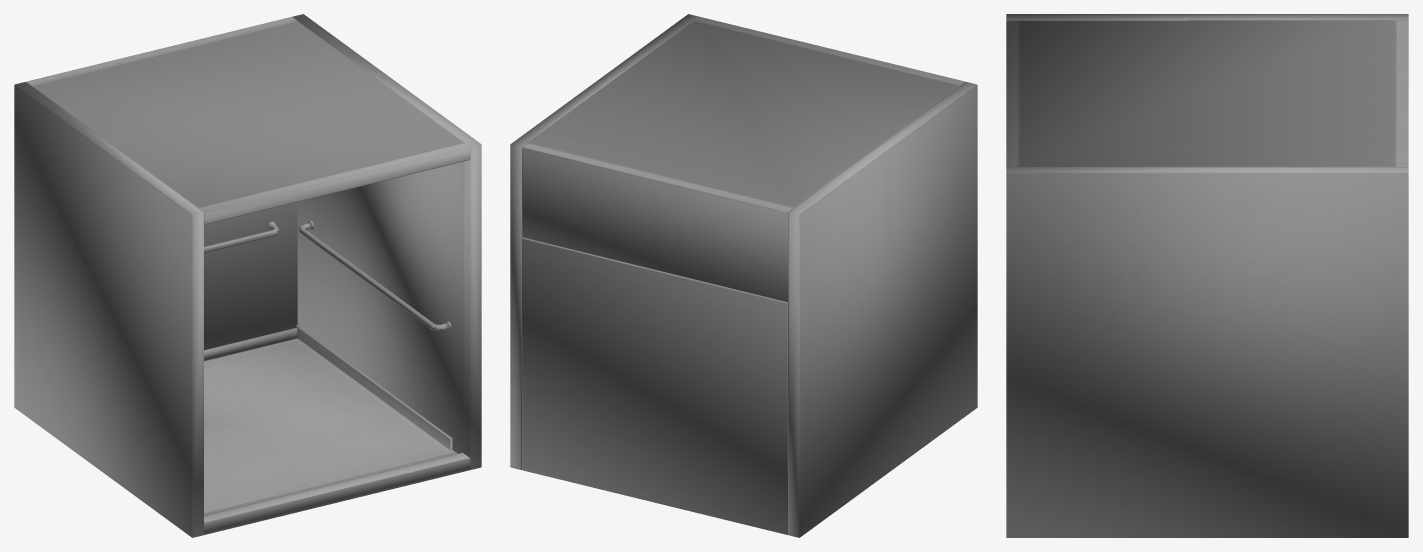
The model's file is original_glb.glb.
The picture shows the model from 3 angles, left to right: view 1: azimuth 30°, elevation 25°; view 2: azimuth 150°, elevation 25°; view 3: azimuth 270°, elevation 25°; orthographic projection. The views are drawn at different scales.
Parts seen in each view (by area): view 1: Open Frame Steel Cab; view 2: Open Frame Steel Cab; view 3: Open Frame Steel Cab.
Part boxes in pixels (bbox=[...]): Open Frame Steel Cab: bbox=[14, 14, 481, 537]; Open Frame Steel Cab: bbox=[510, 14, 977, 537]; Open Frame Steel Cab: bbox=[1006, 14, 1408, 537].
Size of the model in its own units: 0.9355 by 0.998 by 0.998.
1 material, 1 textured.
